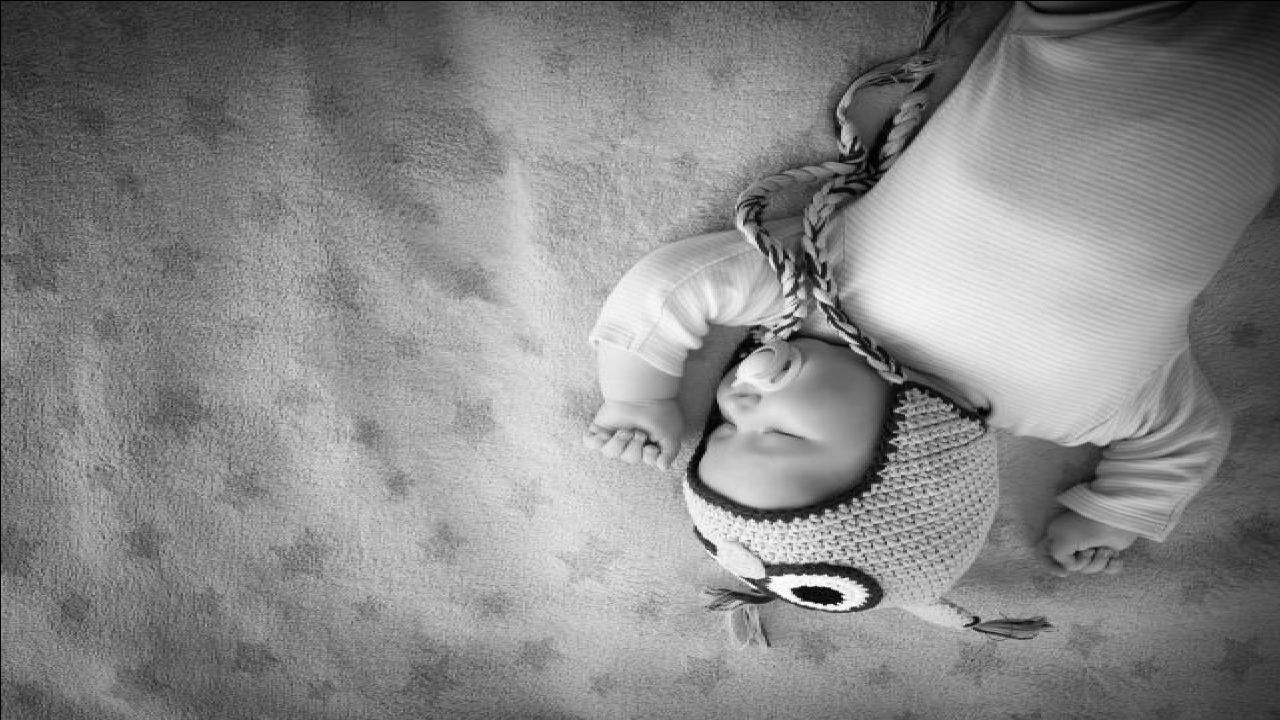hand: (586, 396, 686, 472), (1026, 514, 1143, 576)
